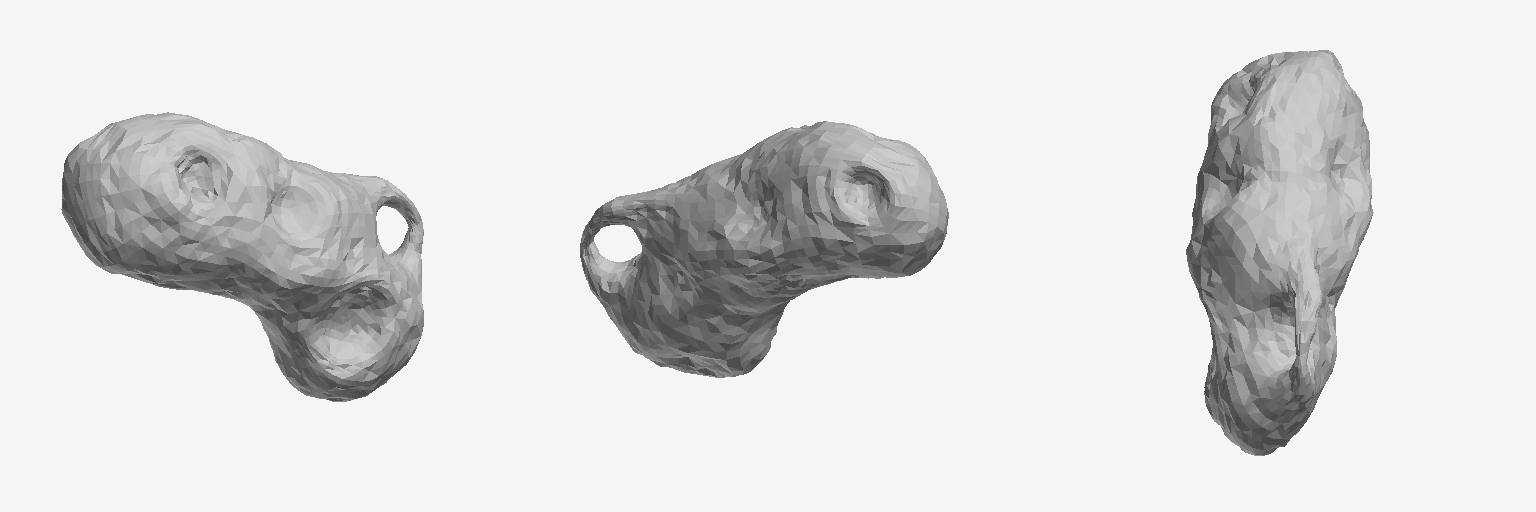
The model's file is Asteroid.obj.
The picture shows the model from 3 angles: view 1: azimuth 30°, elevation 25°; view 2: azimuth 150°, elevation 25°; view 3: azimuth 270°, elevation 25°; orthographic projection.
Visible parts, largest first — view 1: Asteroid; view 2: Asteroid; view 3: Asteroid.
Part boxes in pixels (bbox=[...]): Asteroid: bbox=[61, 112, 423, 401]; Asteroid: bbox=[580, 121, 948, 377]; Asteroid: bbox=[1186, 50, 1373, 455].
Bounding box in the file's own units: 2.48 × 2 × 1.13.